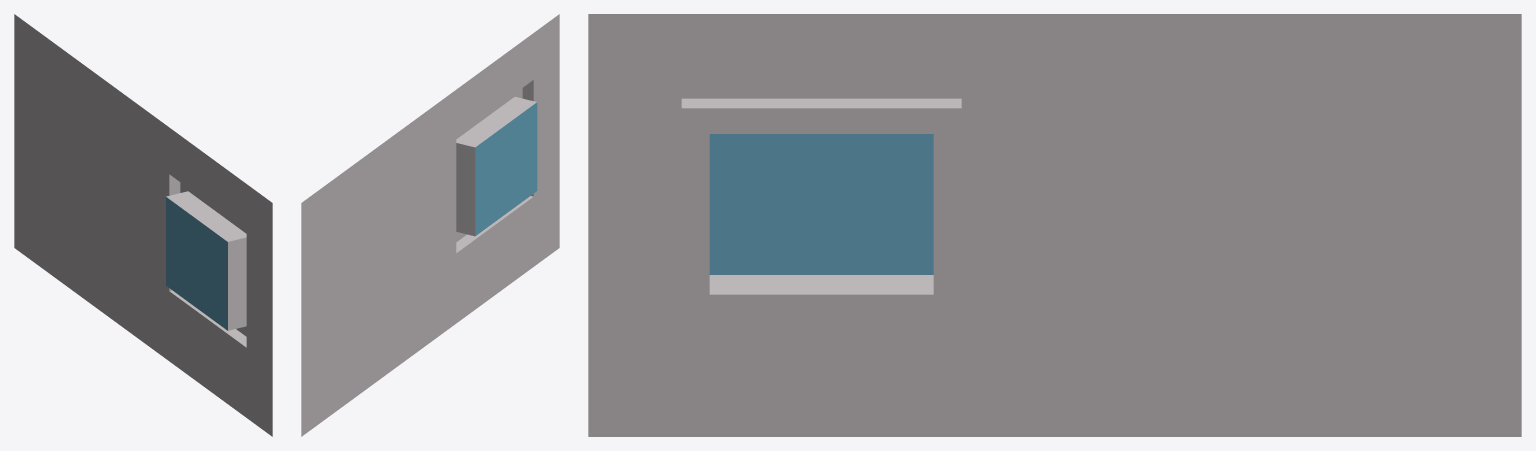
The model's file is Building.fbx.
3 views of the same model, side by side, from view 1: azimuth 30°, elevation 25°; view 2: azimuth 150°, elevation 25°; view 3: azimuth 270°, elevation 25° (orthographic). The views are drawn at different scales.
Visible parts, largest first — view 1: Flat, Window; view 2: Window, Flat; view 3: Flat, Window.
Boxes of the visible parts, left/top/right/bottom form: Flat: left=14, top=14, right=143, bottom=342; Window: left=143, top=109, right=272, bottom=436; Window: left=430, top=14, right=559, bottom=342; Flat: left=301, top=109, right=430, bottom=436; Flat: left=1055, top=14, right=1521, bottom=436; Window: left=588, top=14, right=1054, bottom=436.
Bounding box in the file's own units: 20 × 200 × 400.
